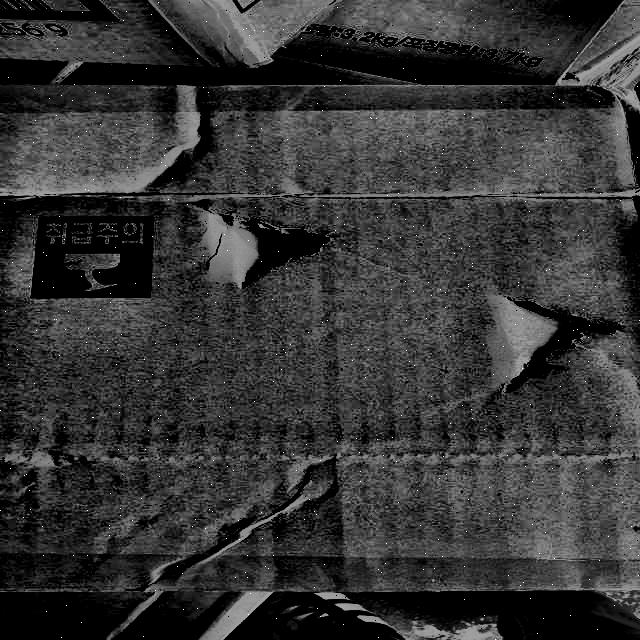box: (0, 70, 639, 611)
hole: (203, 193, 335, 286), (500, 288, 621, 388)
